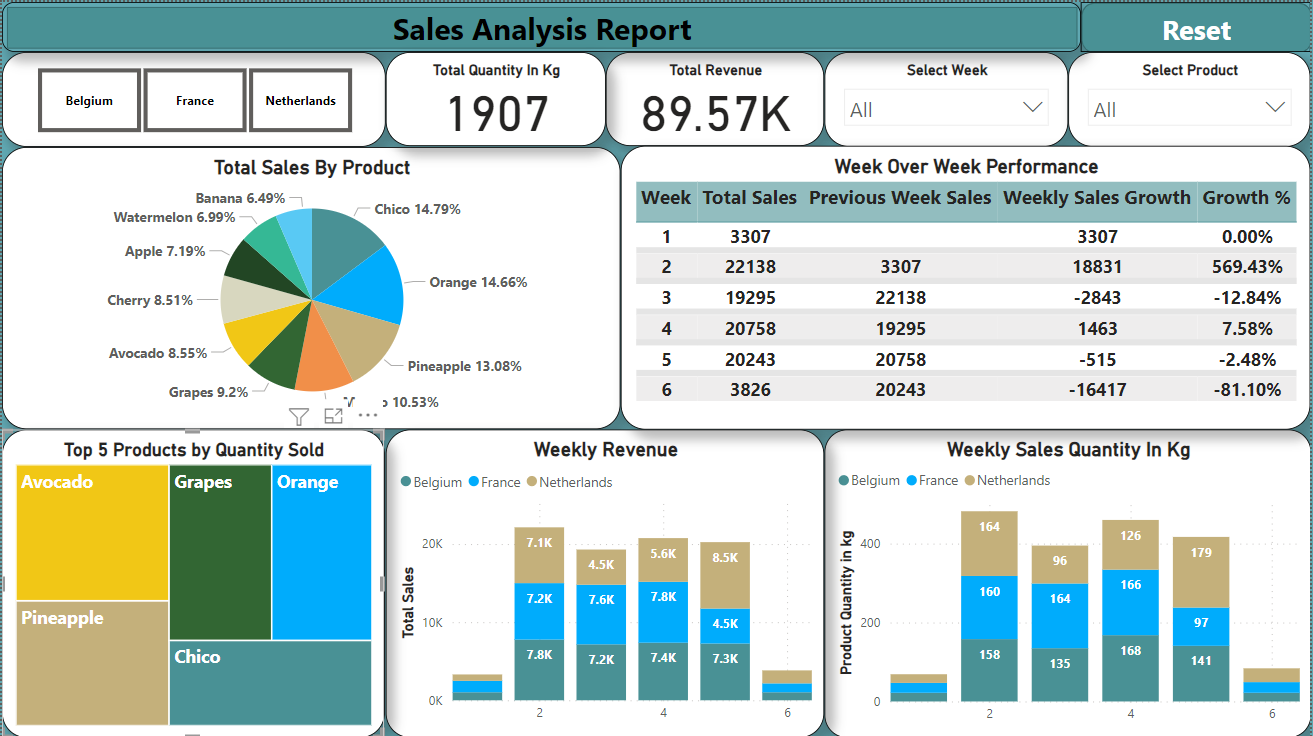

Layout of this report page (visuals, bound fields, positions):
{"tool":"powerbi","page":{"name":"Page 1","canvas":[1280,720],"ordinal":0},"visuals":[{"type":"slicer","fields":{"Values":["Final table.Country "]},"box":[0,48.9,375.3,92.9],"z":0},{"type":"card","title":"Total Revenue ","fields":{"Values":["Final table.total sales"]},"box":[590.4,48.9,213.9,91.7],"z":1000},{"type":"slicer","title":"Select Week ","fields":{"Values":["Final table.week num"]},"box":[804.3,48.9,238.4,92.9],"z":2000},{"type":"slicer","title":"Select Product","fields":{"Values":["Final table.product_name"]},"box":[1042.7,48.9,237.1,92.9],"z":3000},{"type":"pieChart","title":"Total Sales By Product ","fields":{"Y":["Final table.total sales"],"Category":["Final table.product_name"]},"box":[0,141.8,605.1,276.3],"z":4000},{"type":"columnChart","title":"Weekly Sales Quantity In Kg","fields":{"Category":["Final table.week num"],"Y":["Sum(Final table.weight_kg)"],"Series":["Final table.Country "]},"box":[804.1,418.5,476.2,301.9],"z":5000},{"type":"columnChart","title":"Weekly Revenue ","fields":{"Y":["Final table.total sales"],"Category":["Final table.week num"],"Series":["Final table.Country "]},"box":[375.3,418.1,429.1,301.9],"z":6000},{"type":"tableEx","title":"Week Over Week Performance ","fields":{"Values":["Final table.week num","Final table.total sales","Final table.previous week","Final table.wow","Final table.Growth %"]},"box":[605.1,140.6,674.8,277.5],"z":7000},{"type":"treemap","title":"Top 5 Products by Quantity Sold","fields":{"Group":["Final table.product_name"],"Values":["Sum(Final table.weight_kg)"]},"box":[0,418.1,374.1,301.9],"z":8000},{"type":"shape","title":"Sal","box":[0,0,1054.9,48.9],"z":9000},{"type":"card","title":"Total Quantity In Kg","fields":{"Values":["Sum(Final table.weight_kg)"]},"box":[375.3,48.9,215.1,91.7],"z":10000},{"type":"shape","box":[1054.9,0,224.9,48.9],"z":11000}]}

Visuals, with their boxes in screenshot pixels (x1, y1, x2, y2), scaled from the page's 1280x720 canvas onto the 1313x736 screenshot:
slicer - Final table.Country : (0,50,385,145)
"Total Revenue " card: (606,50,825,144)
"Select Week " slicer: (825,50,1070,145)
"Select Product" slicer: (1070,50,1312,145)
"Total Sales By Product " pieChart: (0,145,621,427)
"Weekly Sales Quantity In Kg" columnChart: (825,428,1312,735)
"Weekly Revenue " columnChart: (385,427,825,735)
"Week Over Week Performance " tableEx: (621,144,1312,427)
"Top 5 Products by Quantity Sold" treemap: (0,427,384,735)
"Sal" shape: (0,0,1082,50)
"Total Quantity In Kg" card: (385,50,606,144)
shape: (1082,0,1312,50)
